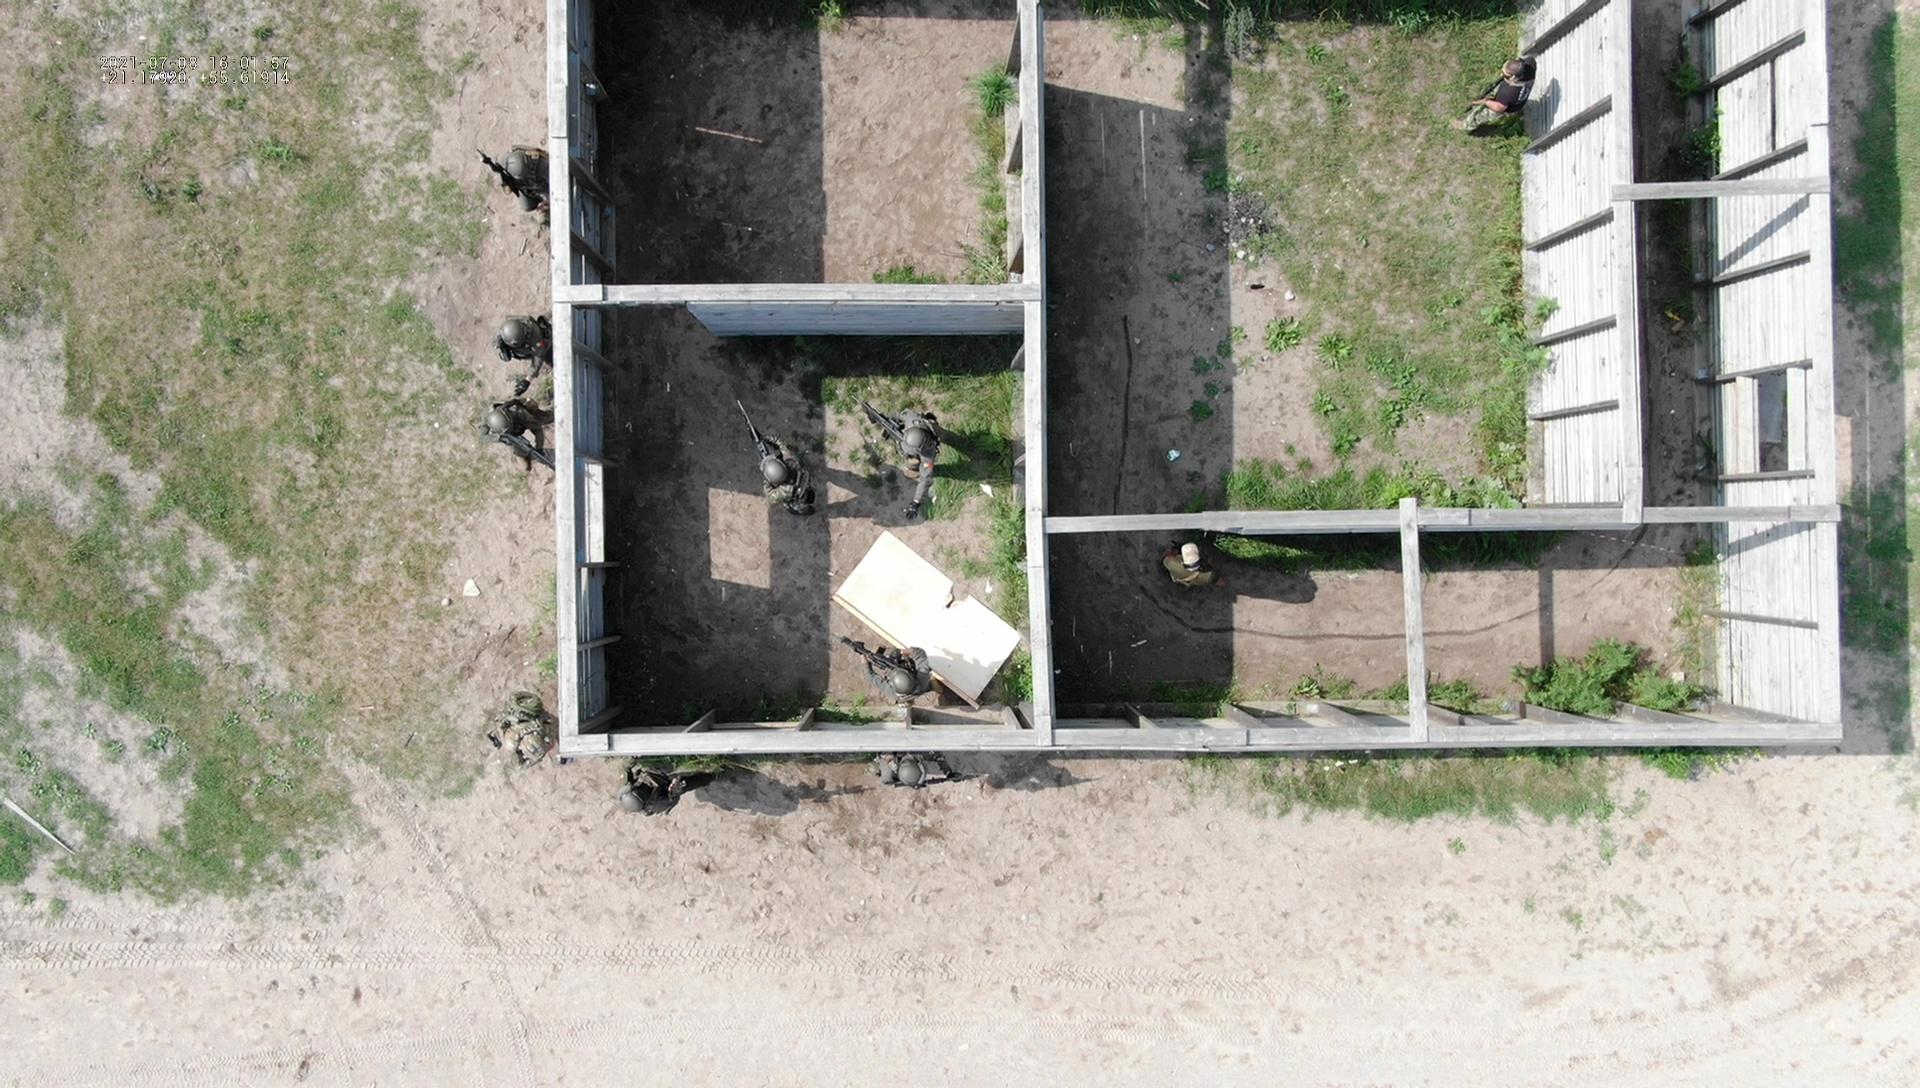Soldier: (708, 392, 841, 512), (1445, 45, 1564, 154), (857, 396, 949, 531), (837, 619, 949, 716), (473, 131, 553, 241), (855, 742, 980, 812), (613, 750, 717, 832), (475, 386, 556, 487), (1151, 533, 1240, 620), (481, 299, 564, 384), (487, 687, 562, 774)
